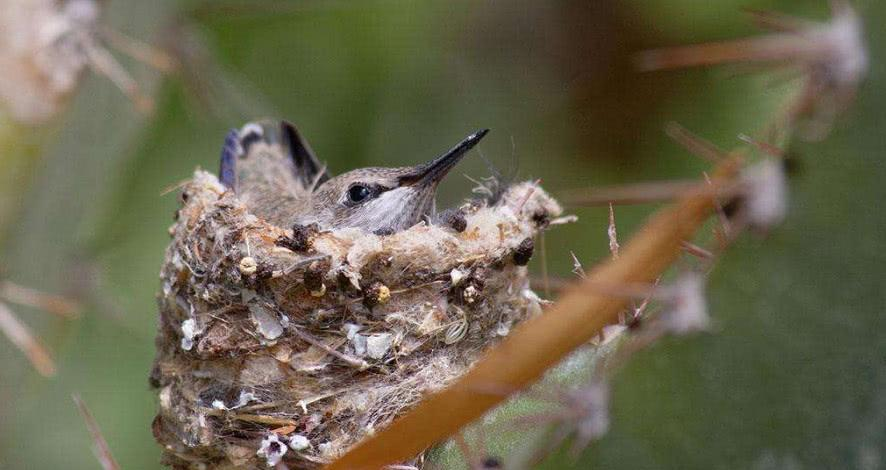bird-nest: (152, 173, 552, 470)
